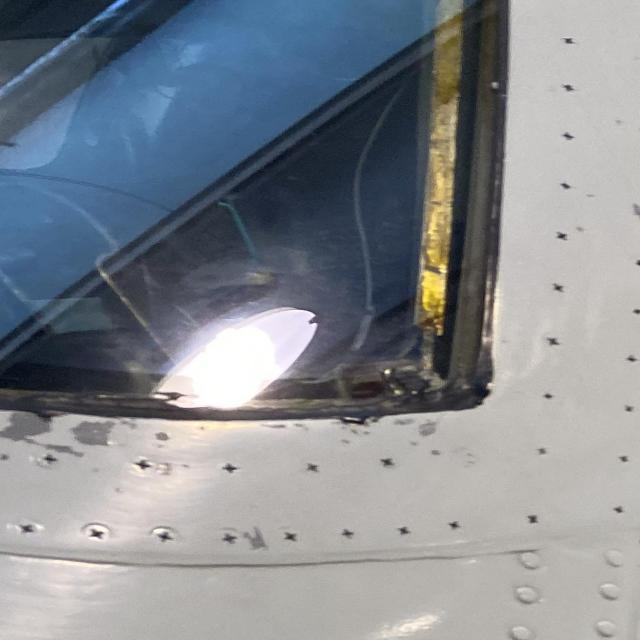Paint-off: (64, 417, 119, 447), (5, 411, 53, 442), (235, 523, 280, 555)
